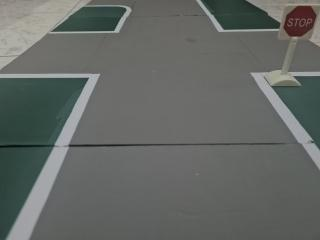stop: (275, 3, 320, 43)
